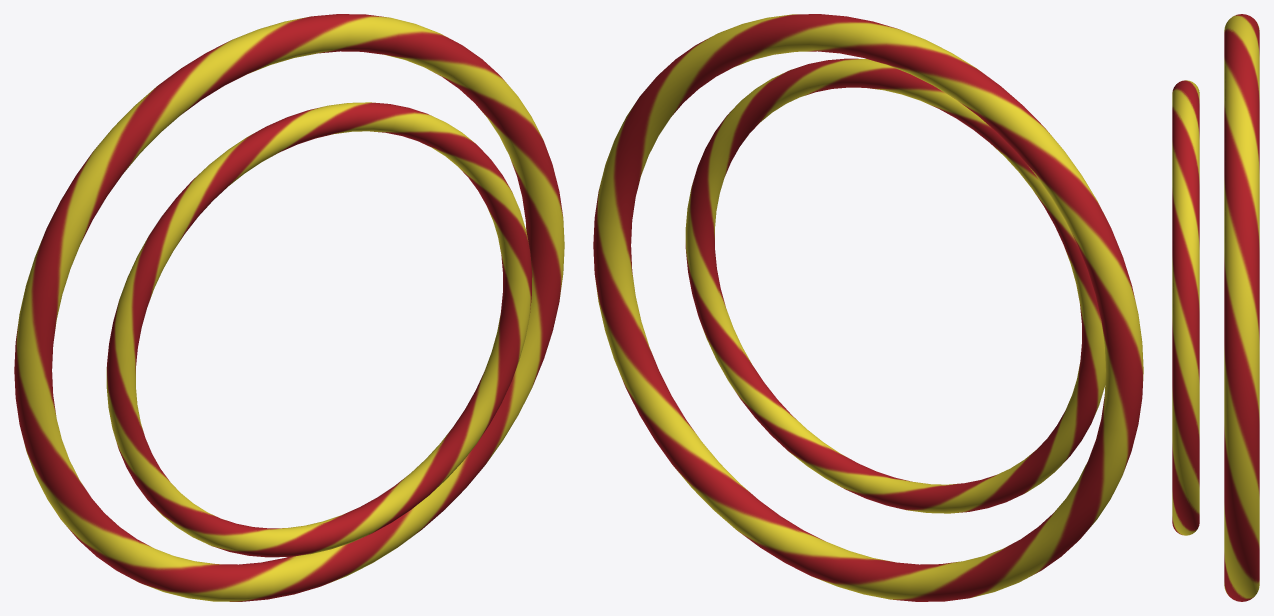
File: target.glb
3 views of the same model, side by side, from view 1: azimuth 30°, elevation 25°; view 2: azimuth 150°, elevation 25°; view 3: azimuth 270°, elevation 25° (orthographic). The views are drawn at different scales.
Visible parts, largest first — view 1: target; view 2: target; view 3: target.
Part boxes in pixels (x1,y1,x2,y2): target: (14,14,564,601); target: (593,14,1143,601); target: (1172,14,1259,601).
Bounding box in the file's own units: 0.2639 × 0.2639 × 0.0392.
1 material, 1 textured.
